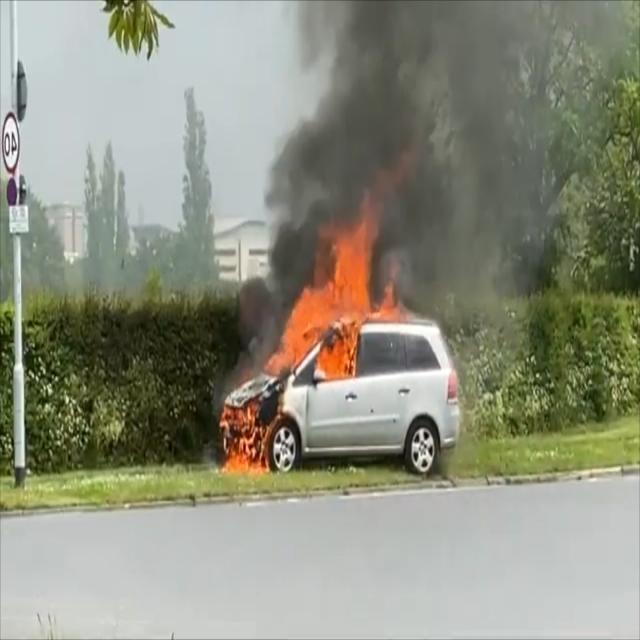fire: (216, 207, 405, 482)
